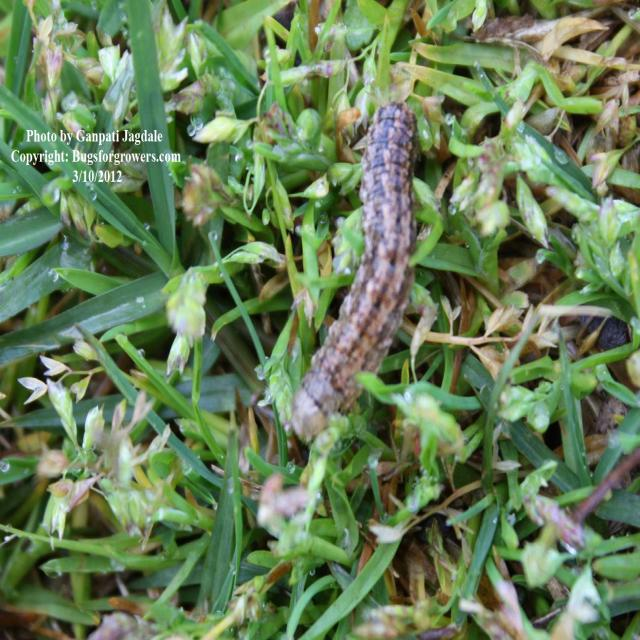Cutworm: (307, 101, 428, 468)
